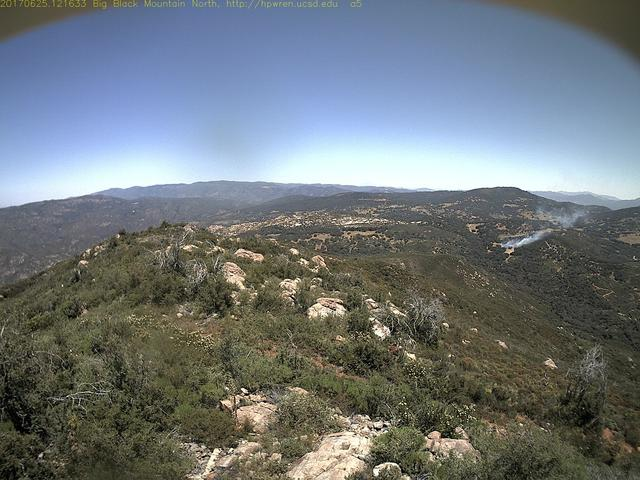smoke: (498, 206, 586, 249)
